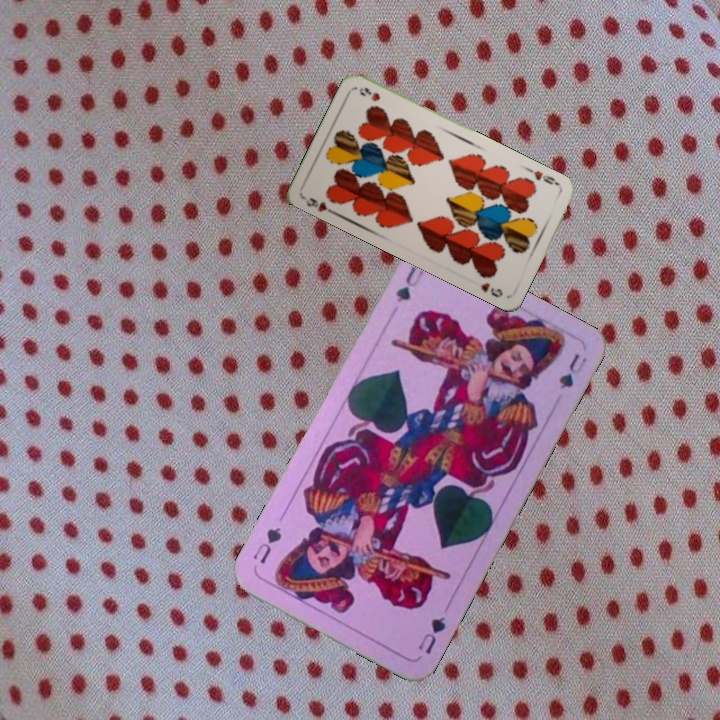GU: (391, 261, 427, 305), (414, 612, 449, 657)
H9: (524, 164, 562, 188), (301, 193, 338, 217)
